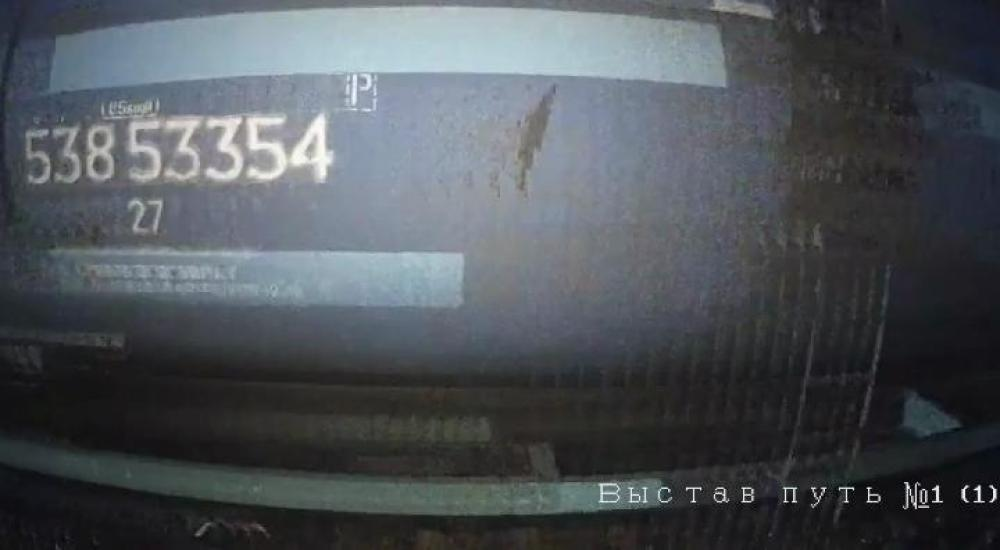Wagon-number: (20, 110, 340, 189)
